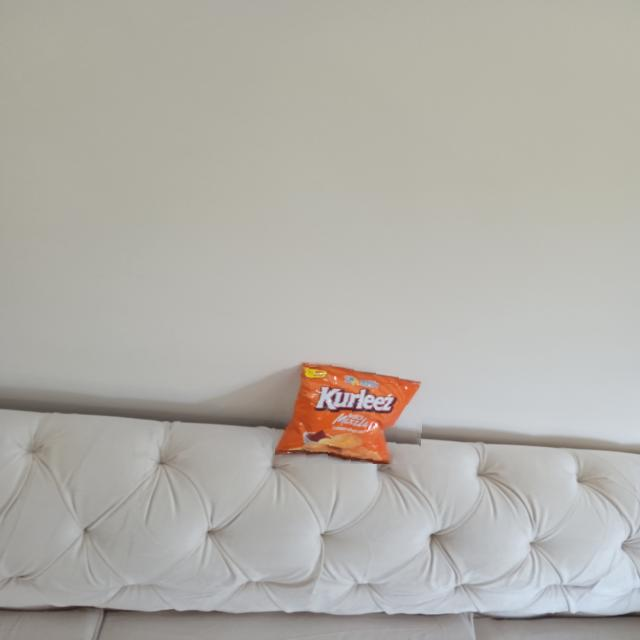Plastic: (275, 358, 424, 464)
